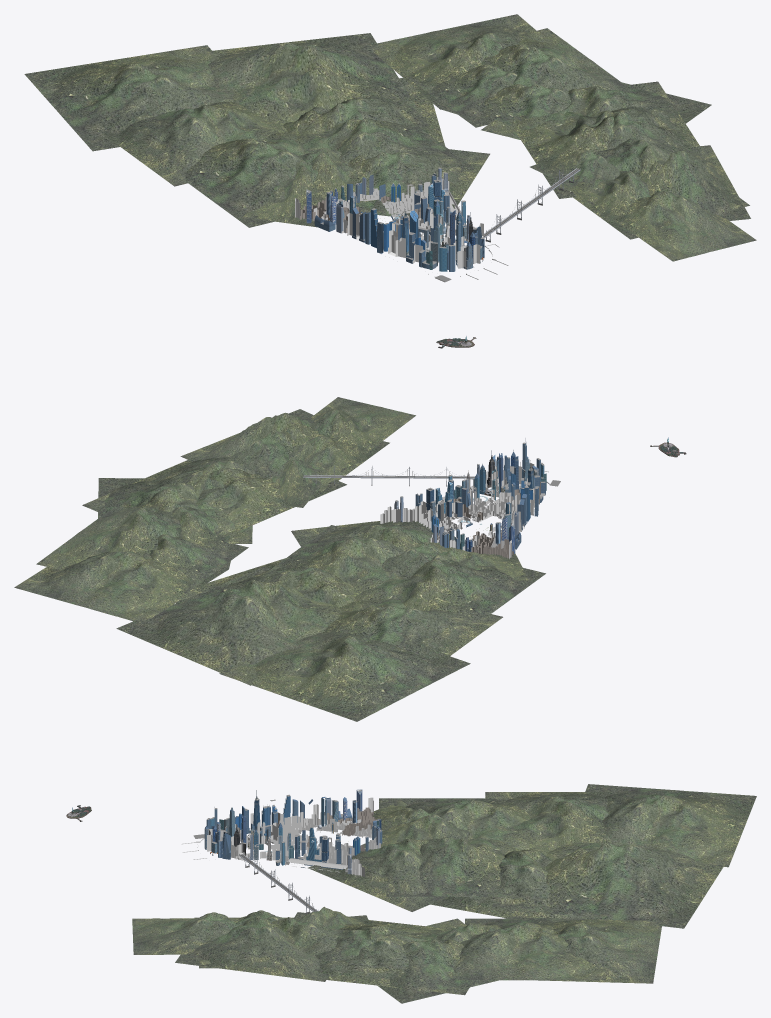
Rendered from castelia_city.glb.
3 views of the same model, one above another, from view 1: azimuth 30°, elevation 25°; view 2: azimuth 150°, elevation 25°; view 3: azimuth 270°, elevation 25° (orthographic). The views are drawn at different scales.
Visible parts, largest first — view 1: object 1, object 2; view 2: object 1, object 2; view 3: object 1, object 2.
Boxes of the visible parts, x1,y1,x2,y2 form: object 1: (24, 14, 756, 348); object 2: (300, 173, 488, 282); object 1: (14, 397, 686, 721); object 2: (394, 442, 560, 558); object 1: (66, 784, 756, 1003); object 2: (193, 790, 376, 874).
Bounding box in the file's own units: 273557 × 27441 × 342878.
404 materials, 383 textured.
